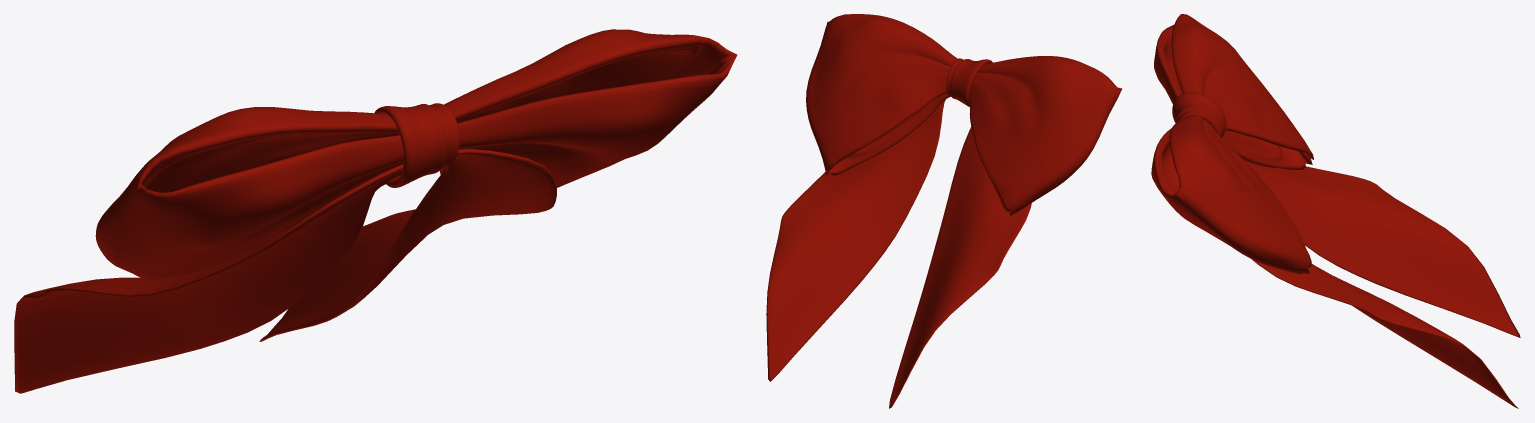
The model's file is lvl2_ribbon.fbx.
3 views of the same model, side by side, from view 1: azimuth 30°, elevation 25°; view 2: azimuth 150°, elevation 25°; view 3: azimuth 270°, elevation 25° (orthographic). The views are drawn at different scales.
Visible parts, largest first — view 1: lvl1_ribbon:bow:Bow Ribbon Backup; view 2: lvl1_ribbon:bow:Bow Ribbon Backup; view 3: lvl1_ribbon:bow:Bow Ribbon Backup.
Boxes of the visible parts, x1,y1,x2,y2 form: lvl1_ribbon:bow:Bow Ribbon Backup: (14,29,737,393); lvl1_ribbon:bow:Bow Ribbon Backup: (766,14,1121,408); lvl1_ribbon:bow:Bow Ribbon Backup: (1151,14,1520,408).
Size of the model in its own units: 0.4119 by 0.3377 by 0.3817.
